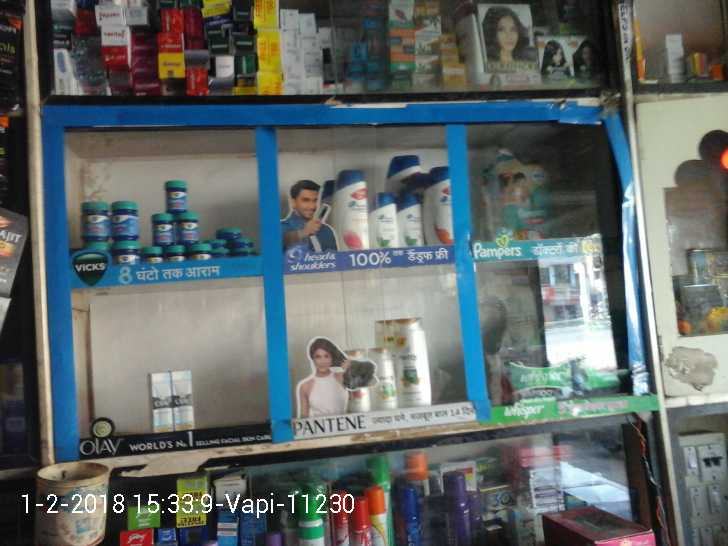beauty: (394, 316, 437, 407), (326, 166, 368, 256), (149, 370, 194, 432), (365, 346, 396, 411), (372, 189, 397, 249), (396, 197, 423, 245)
pharmacy: (485, 147, 564, 237), (108, 200, 143, 239), (78, 201, 114, 238), (163, 174, 194, 216), (152, 207, 176, 250), (181, 208, 200, 243)
